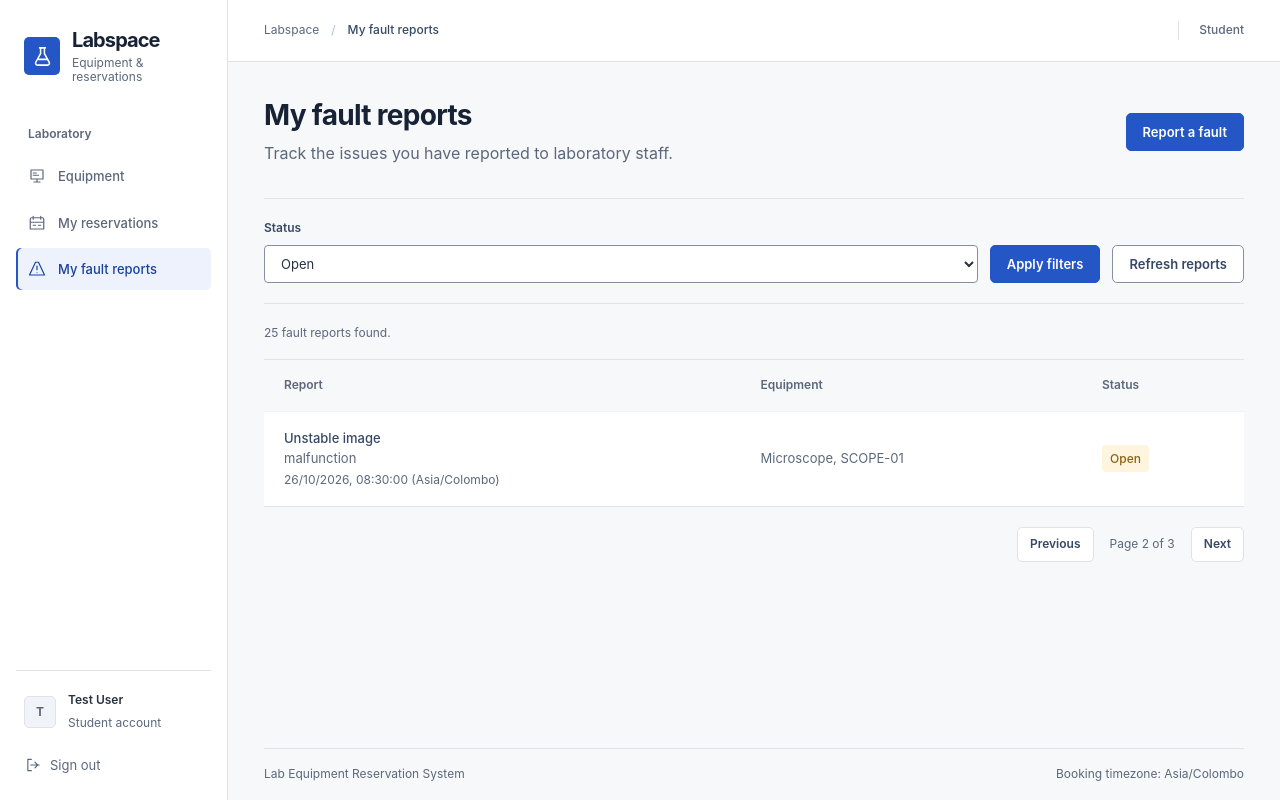
Test: student history filters status and paginates without leaking other filters
expect the text "25 fault reports found." is shown: met, box [264,325,391,340]
Click the button "Next" at (1217, 544), box [1191,527,1244,562]
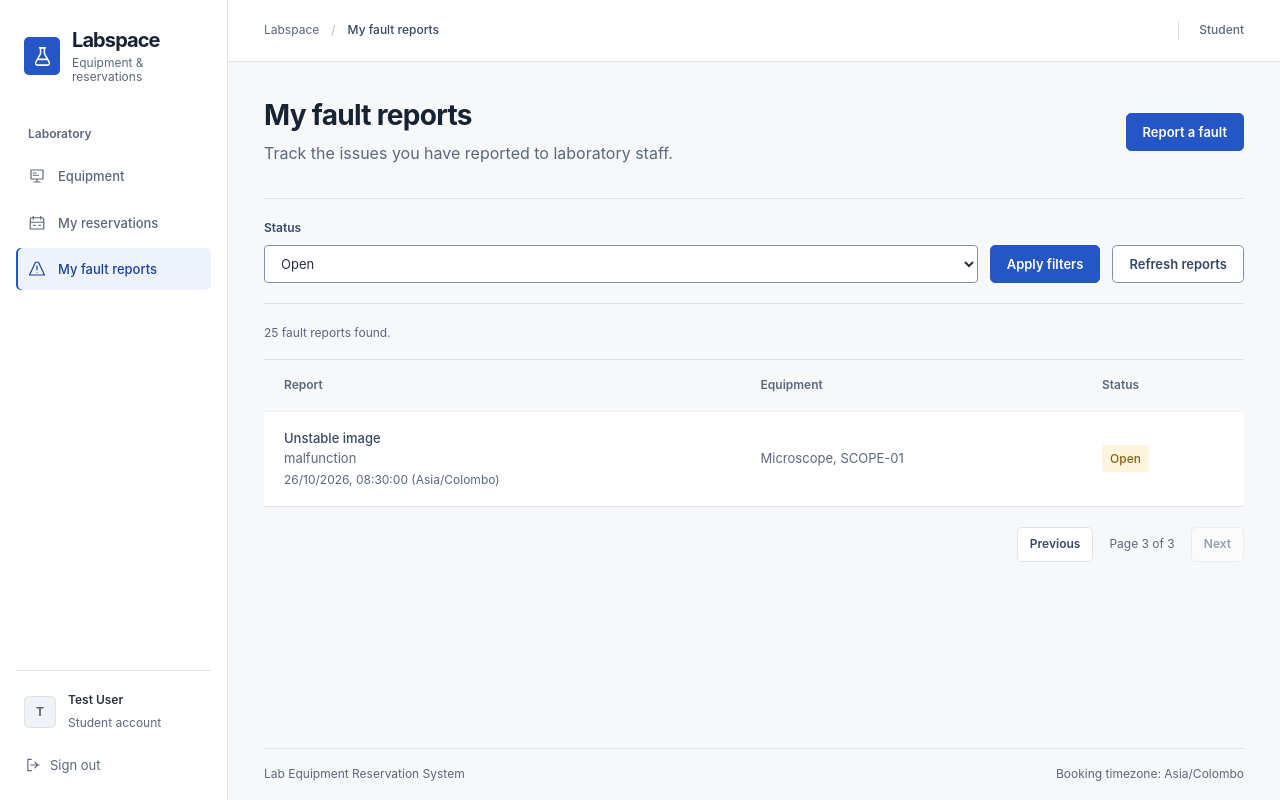
expect the text "Page 3 of 3" is shown: met, box [1109,535,1175,554]
Select "Resolved" in the dropdown labelled "Status" at (621, 264), box [264,245,978,283]
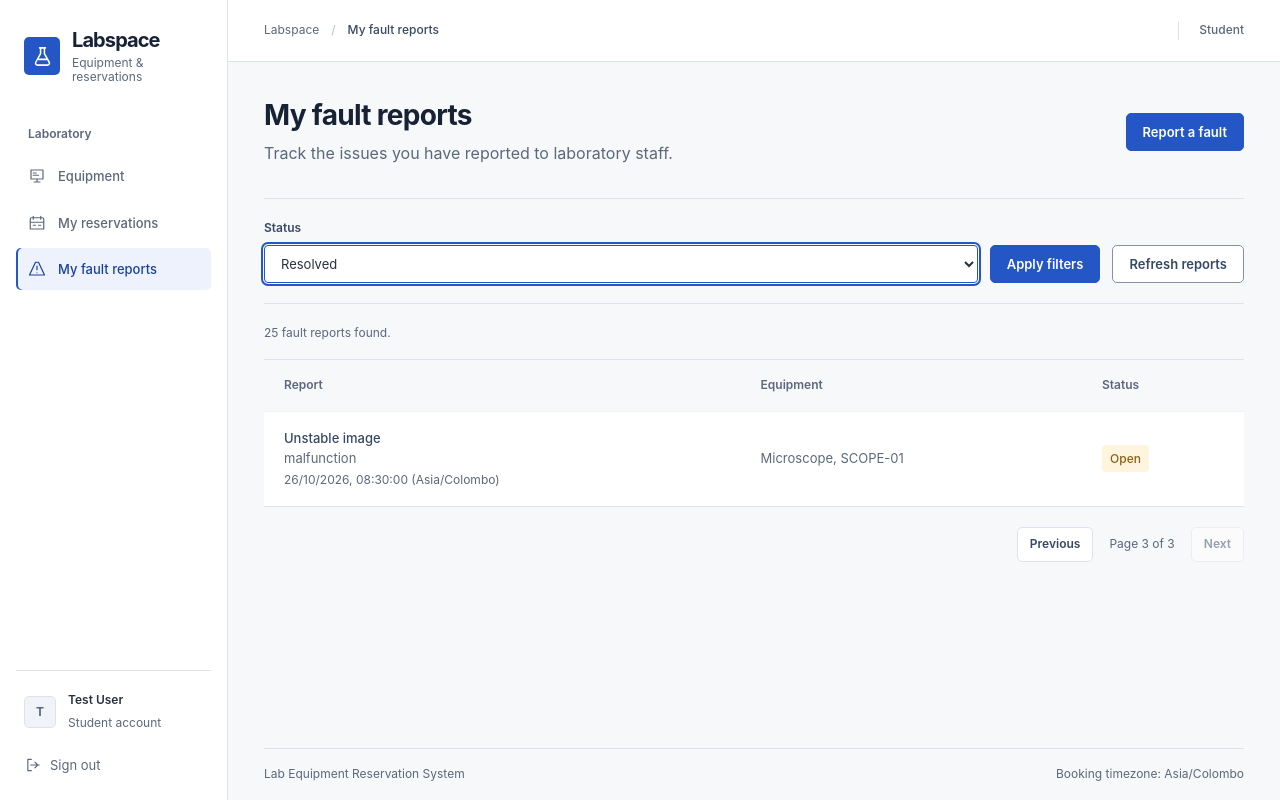
Click the button "Apply filters" at (1045, 264), box [990,245,1100,283]
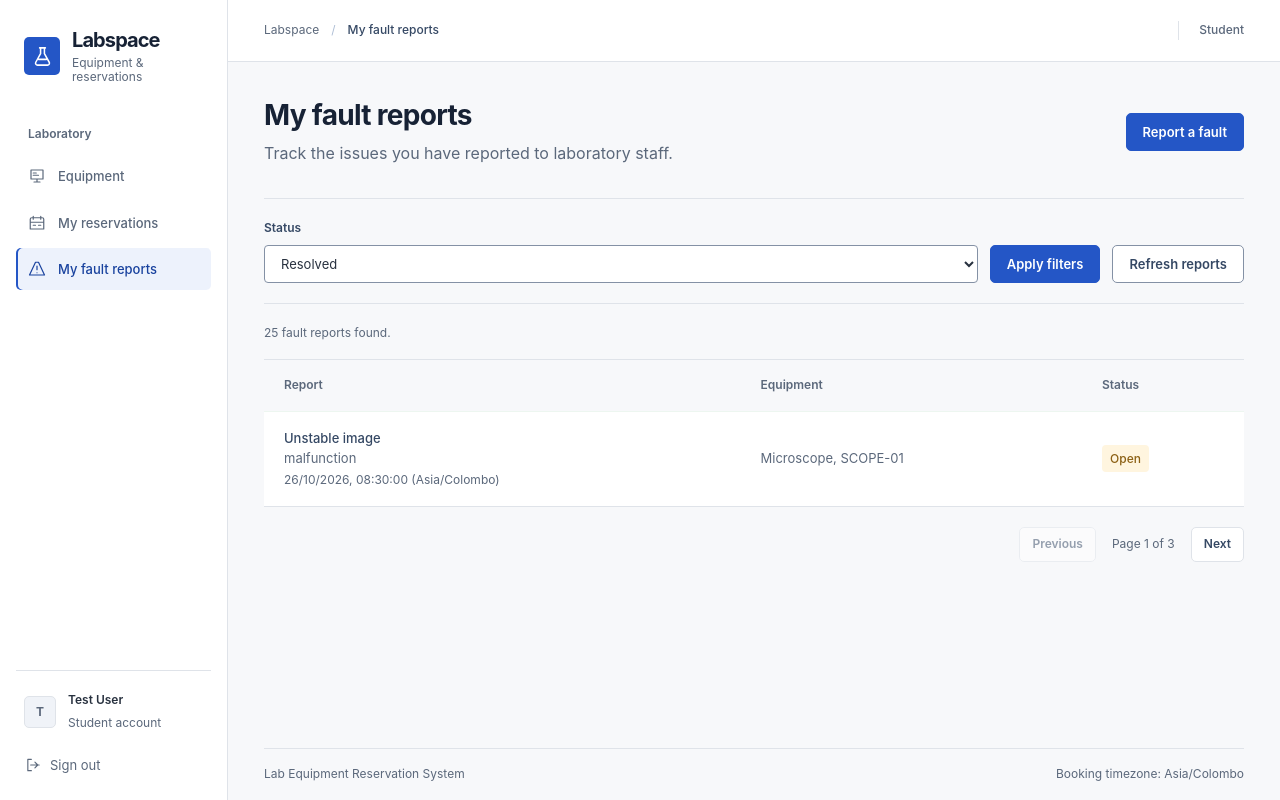
expect the text "Page 1 of 3" is shown: met, box [1112,535,1175,554]
